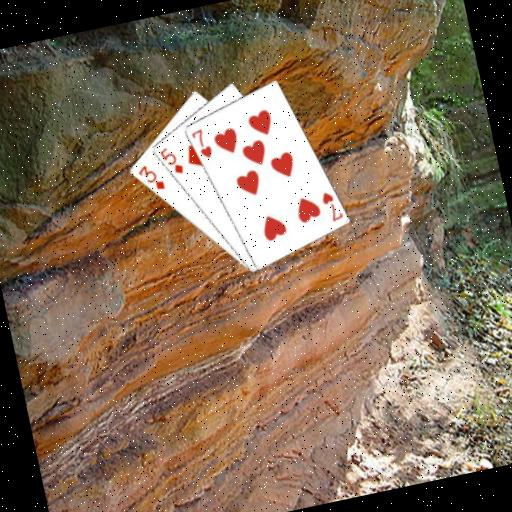3D: (132, 158, 166, 195)
5D: (155, 141, 185, 179)
7H: (316, 186, 344, 225), (187, 124, 214, 162)
